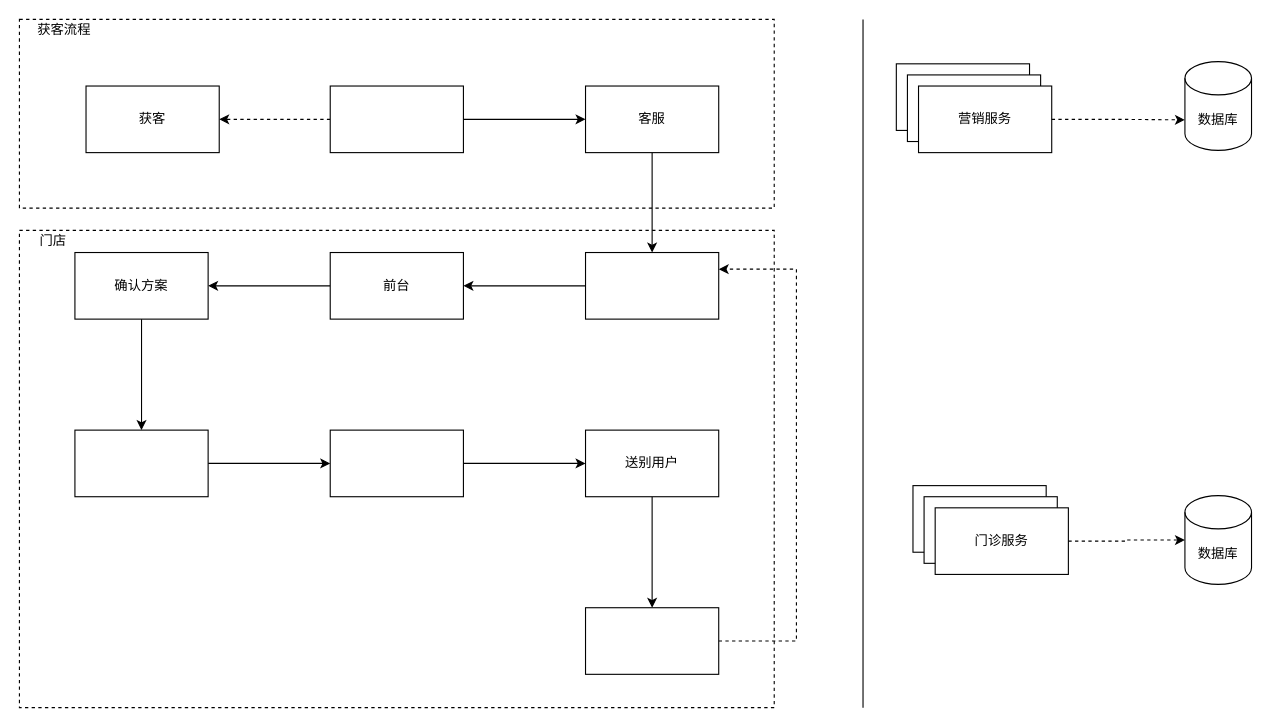
Some shapes in this 1271 by 728 pixel diagram are drawn without their labels. Each missing label, with the box of its shape:
回访: (584, 607, 719, 674)
收费: (74, 429, 208, 497)
治疗: (329, 429, 463, 497)
营销部: (329, 85, 463, 153)
预约: (584, 251, 719, 319)
